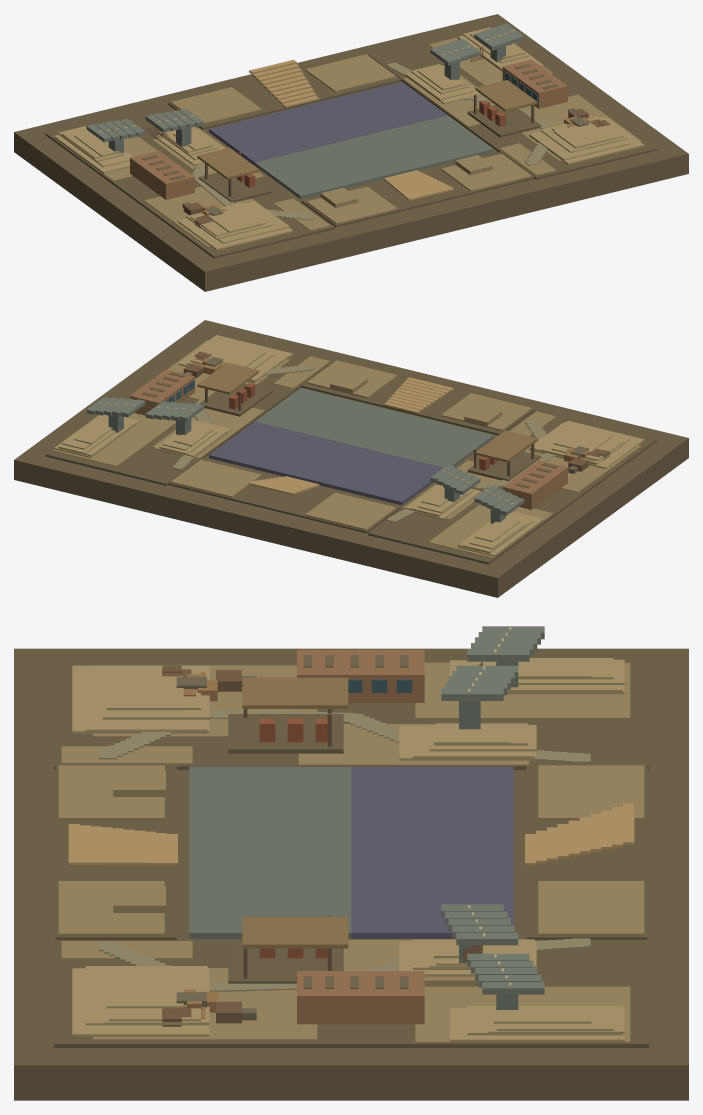
File: preview-wasteland.glb
3 views of the same model, one above another, from view 1: azimuth 30°, elevation 25°; view 2: azimuth 150°, elevation 25°; view 3: azimuth 270°, elevation 25° (orthographic). The views are drawn at different scales.
Visible parts, largest first — view 1: Miniature_Plinth, Miniature_Original_Board, Miniature_Approach_Flanking_Terraces, Miniature_Landscape_Sand_Dunes, Miniature_East_Landscape_Sand_Dunes, Miniature_Landscape_Terrain_Base, Miniature_East_Landscape_Terrain_Base, Miniature_Approach_Terrain, Miniature_East_Landscape_Terrain_Fields, Miniature_Approach_Entry_Stair, Miniature_Landscape_Terrain_Fields, Miniature_Landscape_Crashed_Bus_Body (+14 smaller); view 2: Miniature_Plinth, Miniature_Original_Board, Miniature_Approach_Flanking_Terraces, Miniature_Landscape_Sand_Dunes, Miniature_East_Landscape_Sand_Dunes, Miniature_Approach_Terrain, Miniature_East_Landscape_Terrain_Base, Miniature_Landscape_Terrain_Base, Miniature_East_Landscape_Terrain_Fields, Miniature_Landscape_Terrain_Fields, Miniature_Approach_Entry_Stair, Miniature_Landscape_Collapsed_Overpass (+13 smaller); view 3: Miniature_Plinth, Miniature_Original_Board, Miniature_Approach_Flanking_Terraces, Miniature_East_Landscape_Sand_Dunes, Miniature_Landscape_Sand_Dunes, Miniature_East_Landscape_Terrain_Base, Miniature_Landscape_Terrain_Base, Miniature_Landscape_Terrain_Fields, Miniature_East_Landscape_Terrain_Fields, Miniature_Approach_Terrain, Miniature_Approach_Entry_Stair, Miniature_East_Landscape_Crashed_Bus_Body (+14 smaller).
Boxes of the visible parts, x1,y1,x2,y2 form: Miniature_Plinth: (14,14,688,291); Miniature_Original_Board: (209,82,493,199); Miniature_Approach_Flanking_Terraces: (170,54,532,224); Miniature_Landscape_Sand_Dunes: (54,126,292,250); Miniature_East_Landscape_Sand_Dunes: (405,27,644,164); Miniature_Landscape_Terrain_Base: (45,104,334,258); Miniature_East_Landscape_Terrain_Base: (368,25,657,179); Miniature_Approach_Terrain: (168,55,534,227); Miniature_East_Landscape_Terrain_Fields: (403,37,641,175); Miniature_Approach_Entry_Stair: (249,59,453,200); Miniature_Landscape_Terrain_Fields: (52,128,330,246); Miniature_Landscape_Crashed_Bus_Body: (130,150,194,199); Miniature_Plinth: (14,320,688,597); Miniature_Original_Board: (209,388,493,505); Miniature_Approach_Flanking_Terraces: (170,360,532,530); Miniature_Landscape_Sand_Dunes: (405,420,644,556); Miniature_East_Landscape_Sand_Dunes: (54,335,292,457); Miniature_Approach_Terrain: (168,361,534,533); Miniature_East_Landscape_Terrain_Base: (45,331,334,485); Miniature_Landscape_Terrain_Base: (368,410,657,564); Miniature_East_Landscape_Terrain_Fields: (52,340,330,466); Miniature_Landscape_Terrain_Fields: (403,411,641,558); Miniature_Approach_Entry_Stair: (249,377,453,495); Miniature_Landscape_Collapsed_Overpass: (430,465,524,515); Miniature_Plinth: (14,648,688,1100); Miniature_Original_Board: (189,766,513,938); Miniature_Approach_Flanking_Terraces: (58,765,644,935); Miniature_East_Landscape_Sand_Dunes: (72,939,624,1041); Miniature_Landscape_Sand_Dunes: (72,658,624,760); Miniature_East_Landscape_Terrain_Base: (54,940,648,1047); Miniature_Landscape_Terrain_Base: (54,662,648,769); Miniature_Landscape_Terrain_Fields: (61,662,630,765); Miniature_East_Landscape_Terrain_Fields: (61,939,630,1042); Miniature_Approach_Terrain: (55,766,647,939); Miniature_Approach_Entry_Stair: (68,803,634,865); Miniature_East_Landscape_Crashed_Bus_Body: (297,971,424,1024).
Size of the model in its own units: 7.6 by 0.7976 by 5.2.
